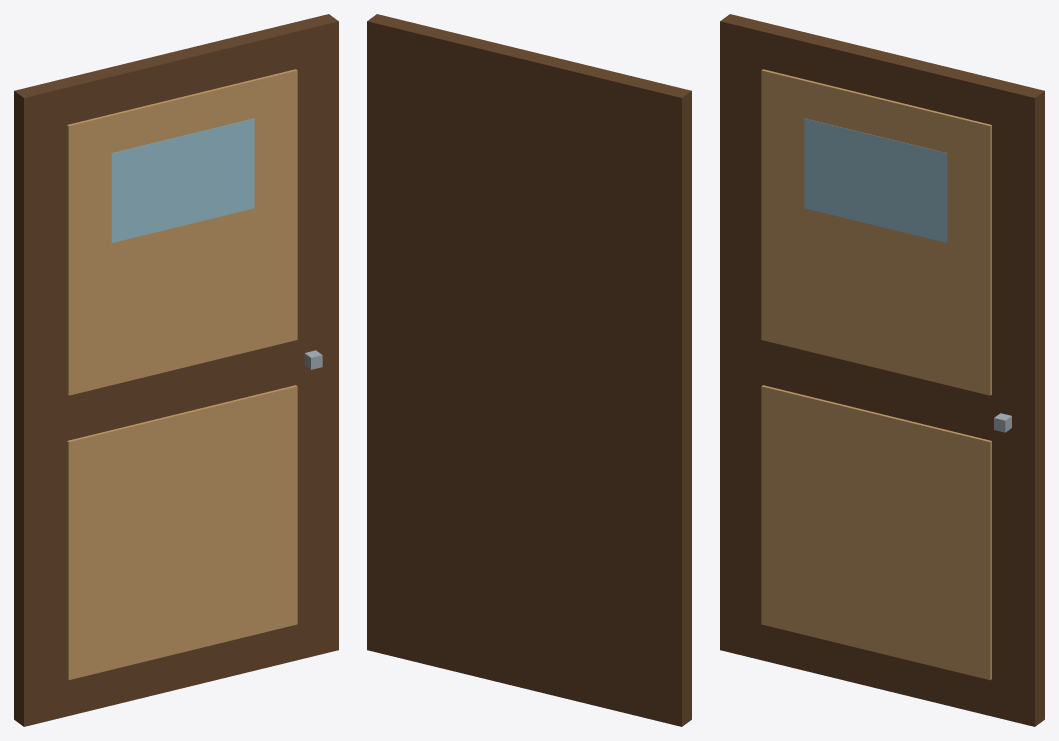
The model's file is GK_Door_Exterior_01.glb.
3 views of the same model, side by side, from view 1: azimuth 30°, elevation 25°; view 2: azimuth 150°, elevation 25°; view 3: azimuth 330°, elevation 25° (orthographic).
Visible parts, largest first — view 1: GK_Door_Exterior_01; view 2: GK_Door_Exterior_01; view 3: GK_Door_Exterior_01.
Part boxes in pixels (x1,y1,x2,y2): GK_Door_Exterior_01: [14, 14, 338, 726]; GK_Door_Exterior_01: [367, 14, 691, 726]; GK_Door_Exterior_01: [720, 14, 1044, 726].
Size of the model in its own units: 1.1 by 2.1 by 0.1.
Materials: 1 (1 with a texture image).
